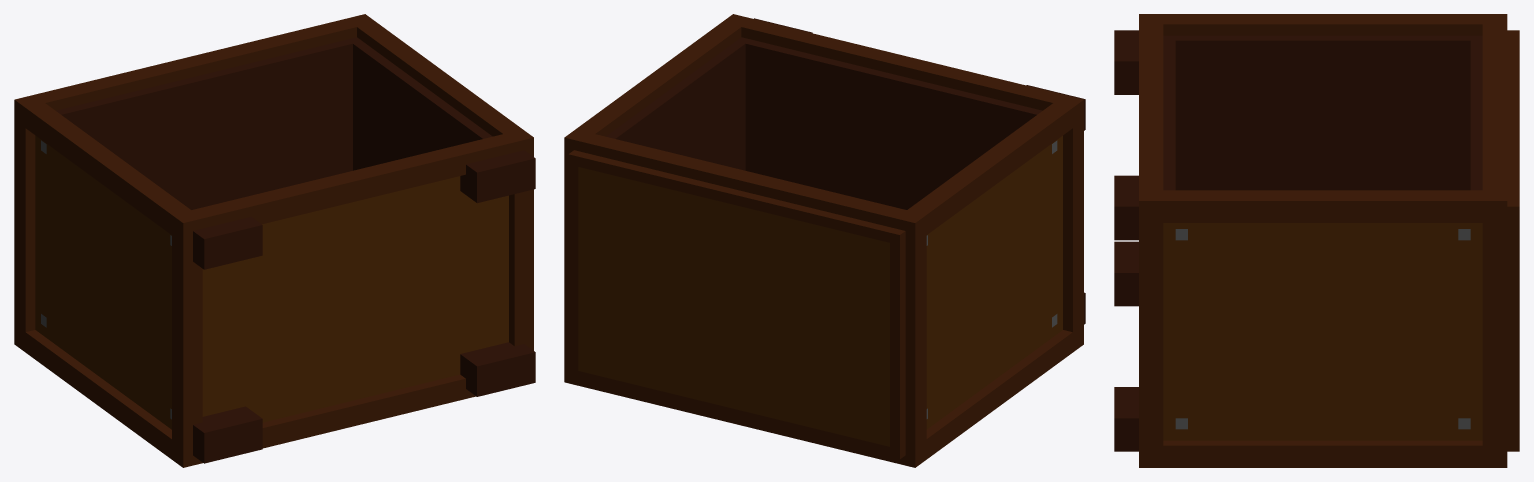
Rendered from cabinet.fbx.
The picture shows the model from 3 angles, left to right: view 1: azimuth 30°, elevation 25°; view 2: azimuth 150°, elevation 25°; view 3: azimuth 270°, elevation 25°; orthographic projection. The views are drawn at different scales.
Parts seen in each view (by area): view 1: imagetostl_mesh0; view 2: imagetostl_mesh0; view 3: imagetostl_mesh0.
Part boxes in pixels (bbox=[...]): imagetostl_mesh0: bbox=[14, 14, 535, 467]; imagetostl_mesh0: bbox=[564, 14, 1085, 467]; imagetostl_mesh0: bbox=[1114, 14, 1519, 467].
Bounding box in the file's own units: 5.4 × 3.6 × 4.95.
